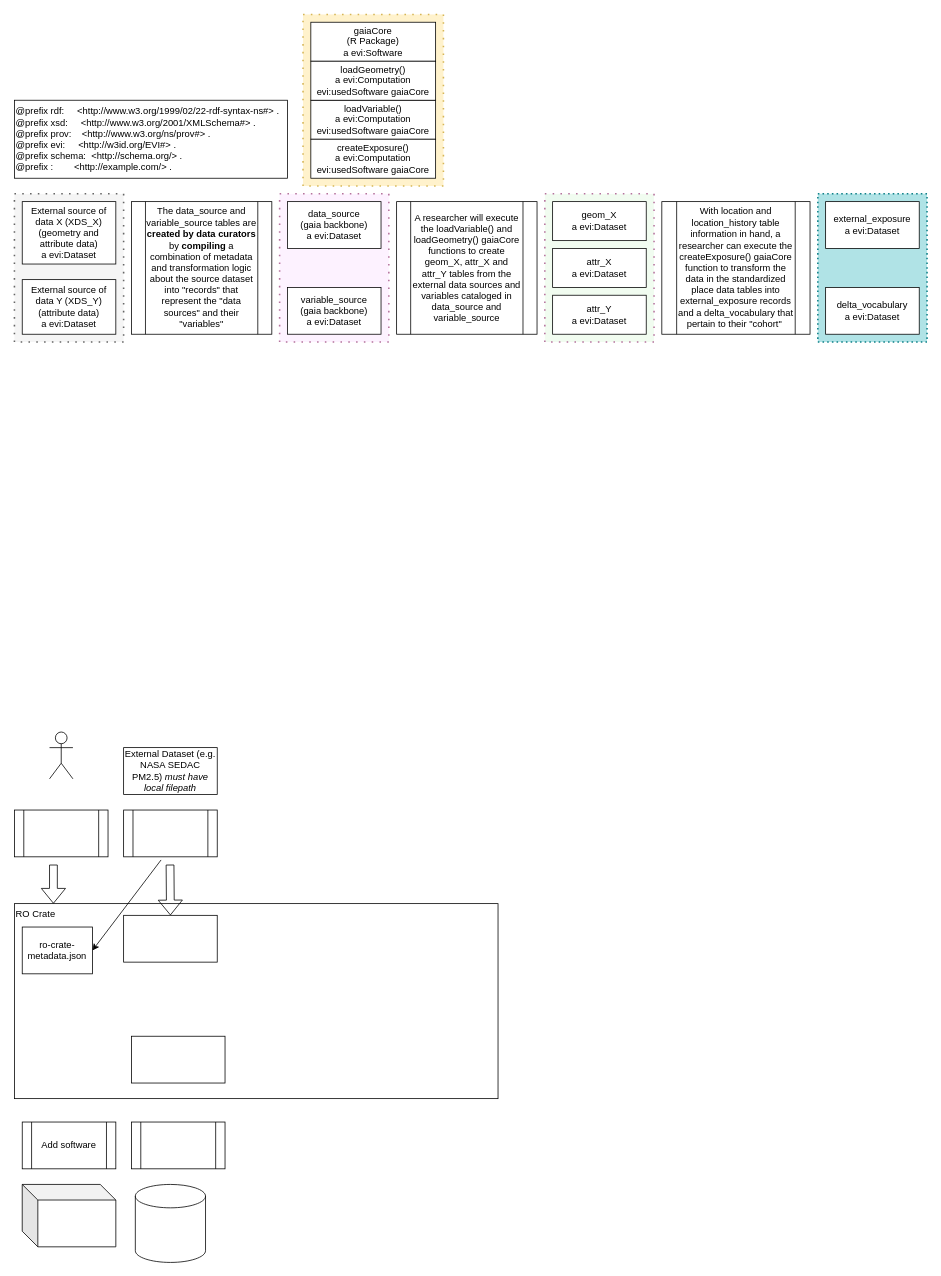
Image size: 941x1276. Some labels were removed from this diagram. The centre of each missing label's shape, as x and y in pixels:
"Add Dataset" belongs at [170,833].
"Copy of data_source.csv" belongs at [178,1059].
"Copy of external dataset" belongs at [170,938].
"Create RO Crate" belongs at [61,833].
"gaia-core (R Package)" belongs at [68,1215].
"gaia-db (data_source CSV representation)" belongs at [170,1223].
"OHDSI GIS" belongs at [61,755].
